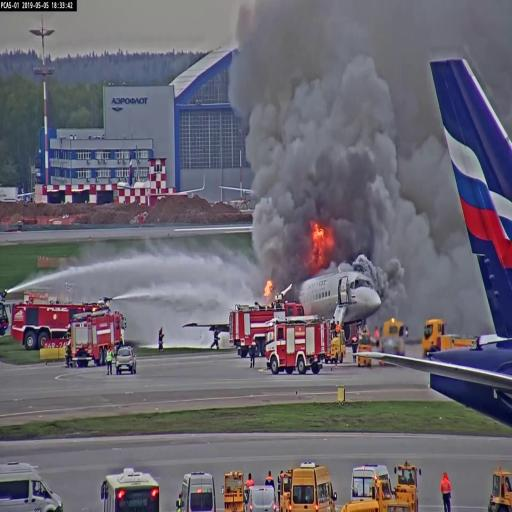fire: (312, 224, 328, 262), (258, 273, 276, 300)
smoke: (247, 7, 396, 227)
